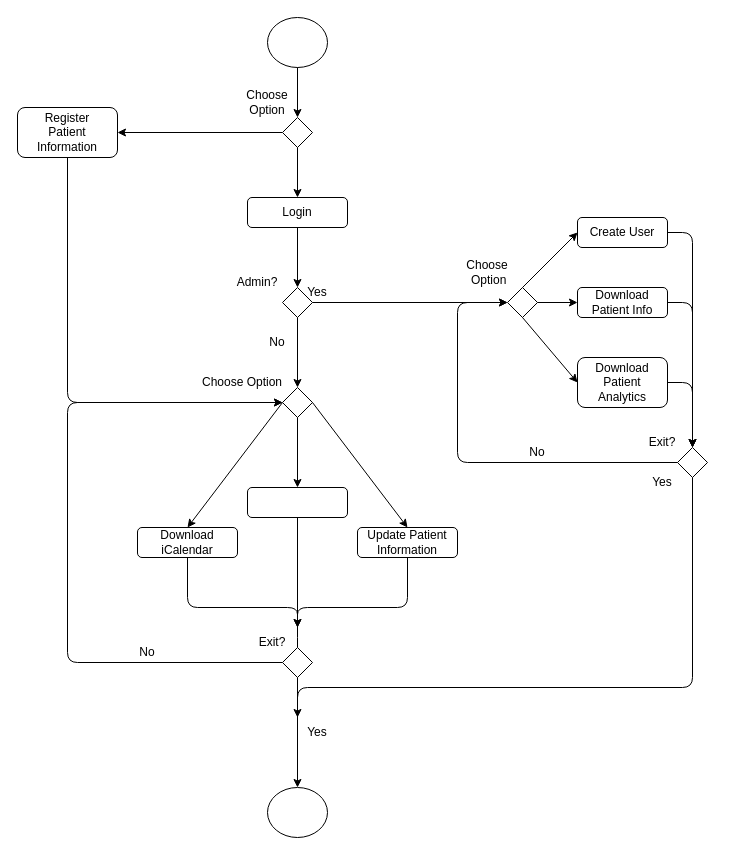
This 735x855 diagram has some shape labels left out. Each missing label, with the box of its shape:
Start: (266, 16, 328, 68)
Stop: (266, 786, 328, 838)
View Patient Information: (246, 486, 348, 518)
